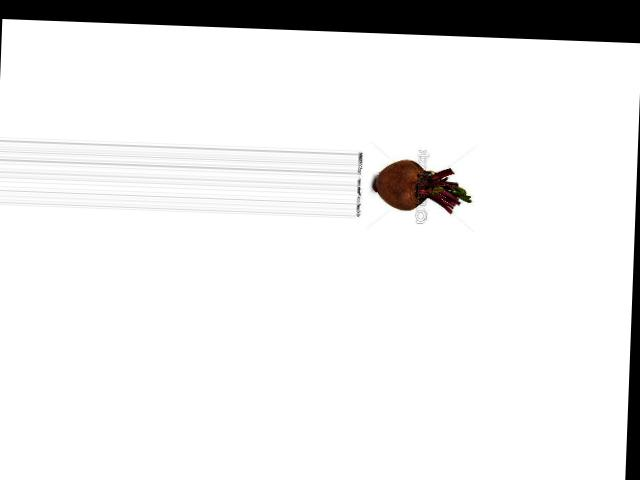beet: (372, 158, 472, 214)
